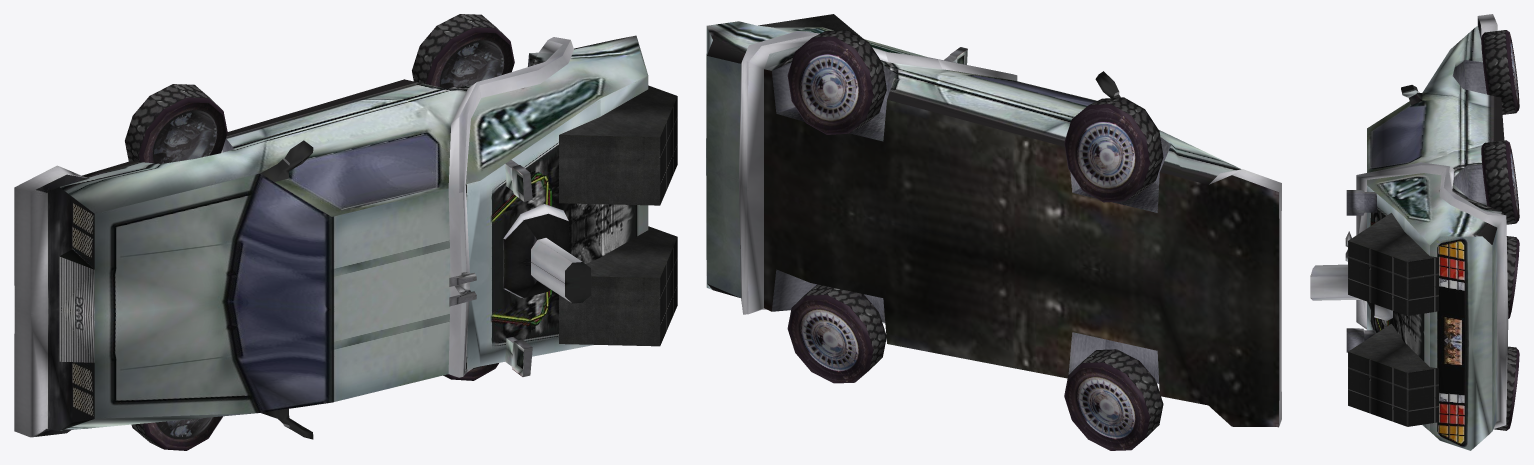
Rendered from delorian.obj.
3 renders of one model, left to right at view 1: azimuth 30°, elevation 25°; view 2: azimuth 150°, elevation 25°; view 3: azimuth 270°, elevation 25°, orthographic. The views are drawn at different scales.
Parts seen in each view (by area): view 1: delor, backbox01, backbox, ChamferCyl03, ChamferCyl04, ChamferCyl01; view 2: delor, ChamferCyl03, ChamferCyl04, ChamferCyl01, ChamferCyl02, backbox01; view 3: delor, backbox, backbox01, ChamferCyl03, ChamferCyl04, ChamferCyl02, ChamferCyl01.
Boxes of the visible parts, x1=… form: delor: x1=14, y1=35, x2=648, y2=439; backbox01: x1=559, y1=85, x2=677, y2=205; backbox: x1=559, y1=226, x2=677, y2=346; ChamferCyl03: x1=125, y1=84, x2=227, y2=163; ChamferCyl04: x1=412, y1=14, x2=514, y2=88; ChamferCyl01: x1=131, y1=416, x2=222, y2=450; delor: x1=706, y1=21, x2=1281, y2=427; ChamferCyl03: x1=1064, y1=97, x2=1163, y2=202; ChamferCyl04: x1=787, y1=30, x2=886, y2=134; ChamferCyl01: x1=1064, y1=349, x2=1163, y2=450; ChamferCyl02: x1=787, y1=284, x2=886, y2=383; backbox01: x1=758, y1=14, x2=863, y2=38; delor: x1=1310, y1=14, x2=1508, y2=450; backbox: x1=1348, y1=324, x2=1438, y2=426; backbox01: x1=1348, y1=213, x2=1438, y2=315; ChamferCyl03: x1=1481, y1=30, x2=1519, y2=114; ChamferCyl04: x1=1481, y1=140, x2=1519, y2=224; ChamferCyl02: x1=1493, y1=346, x2=1519, y2=430; ChamferCyl01: x1=1506, y1=236, x2=1519, y2=318.
Bounding box in the file's own units: 119 × 67.09 × 44.84.
3 materials, 3 textured.
